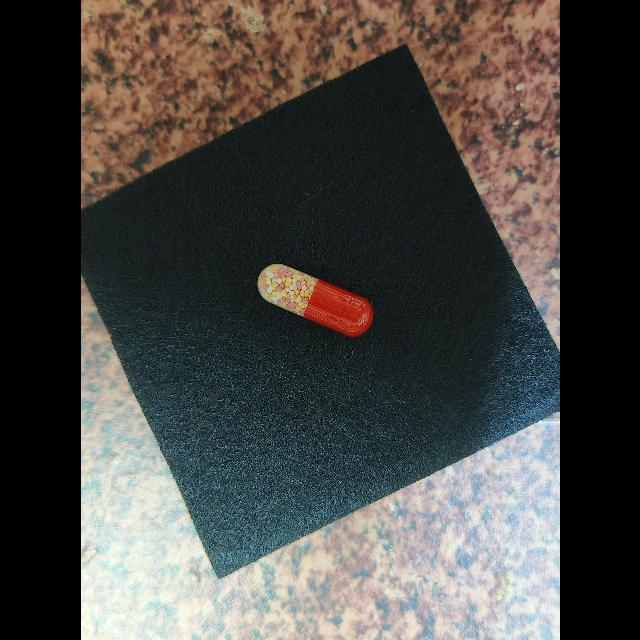Intact Capsule: (257, 264, 373, 337)
